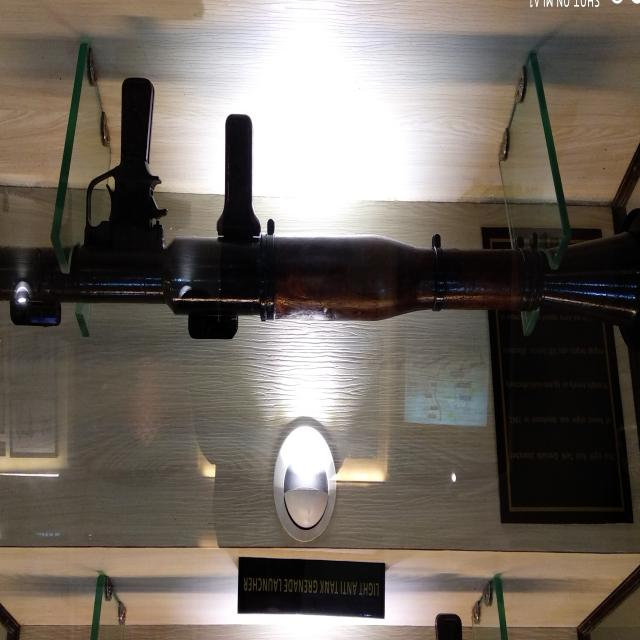Gun: (0, 0, 640, 397)
